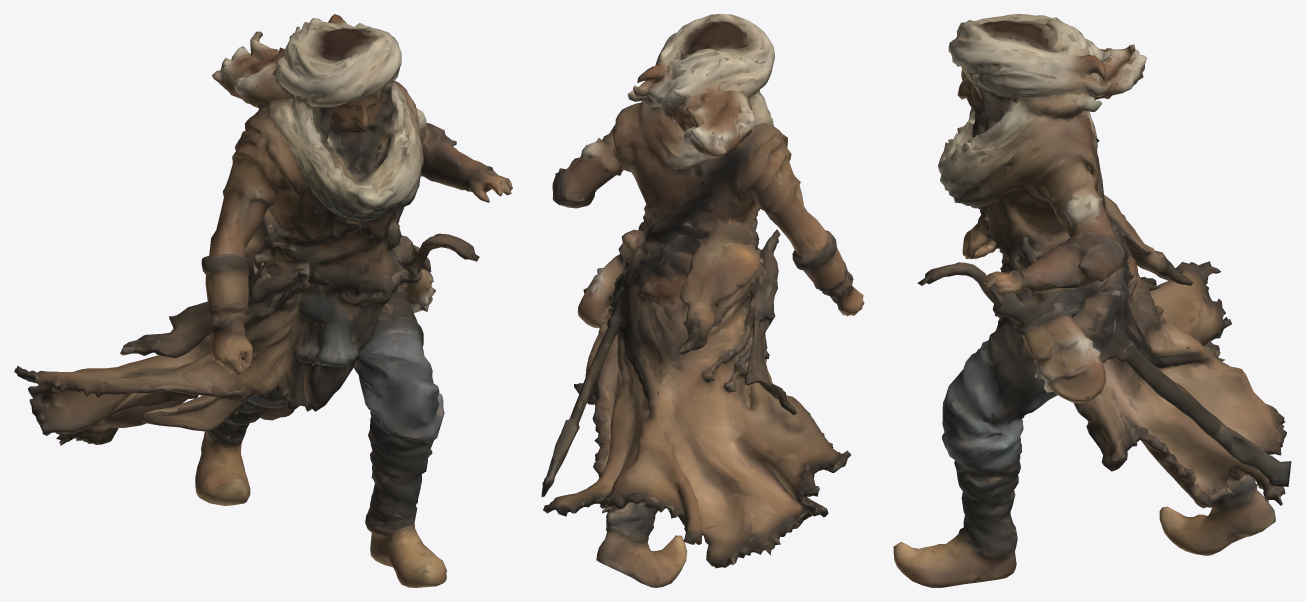
The model's file is Baj_final.glb.
The picture shows the model from 3 angles, left to right: view 1: azimuth 30°, elevation 25°; view 2: azimuth 150°, elevation 25°; view 3: azimuth 270°, elevation 25°; orthographic projection. The views are drawn at different scales.
Parts seen in each view (by area): view 1: Mesh1.0; view 2: Mesh1.0; view 3: Mesh1.0.
Boxes of the visible parts, left/top/right/bottom form: Mesh1.0: left=14, top=14, right=512, bottom=587; Mesh1.0: left=541, top=14, right=864, bottom=587; Mesh1.0: left=893, top=14, right=1291, bottom=587.
Bounding box in the file's own units: 1.41 × 1.8 × 1.21.
Materials: 1 (1 with a texture image).
